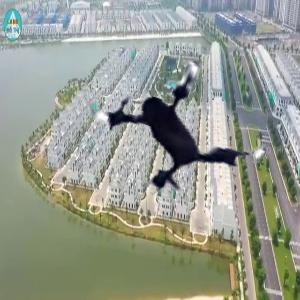drone: (79, 17, 286, 224)
